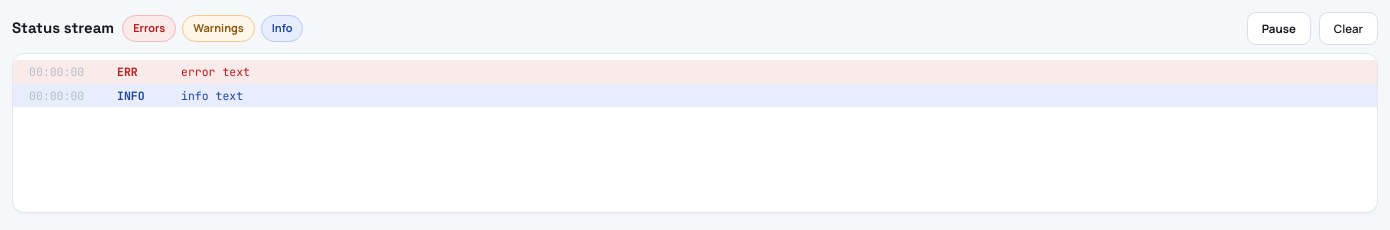
Test: StatusStream › toggling a chip off hides rows in that group only
Click the button "Errors": (149, 29) [122, 15, 176, 42]
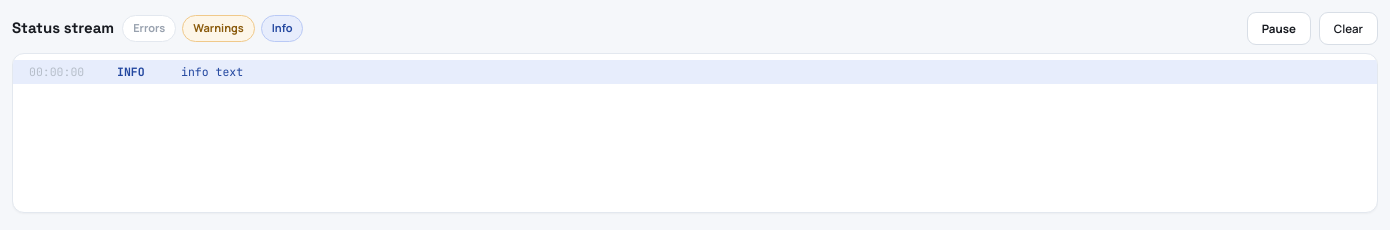
Expected: the text "error text" is gone
Expected: the text "info text" is shown, [181, 64, 243, 79]
